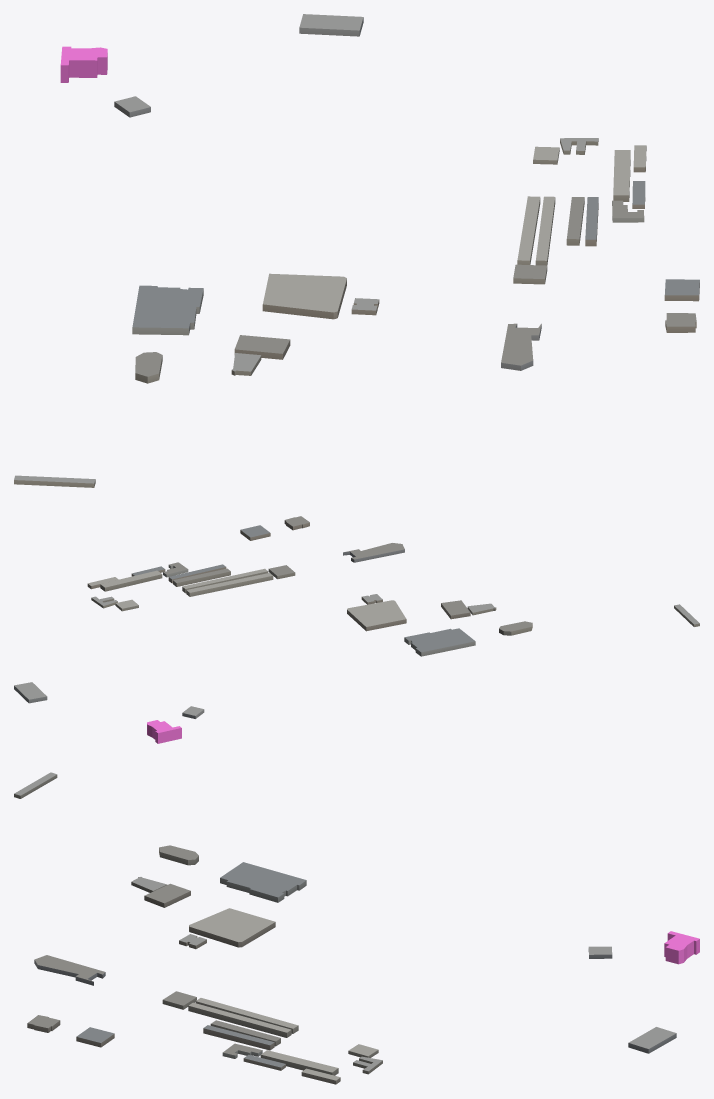
Rendered from bld_11_10.fbx.
3 renders of one model, top to bottom at view 1: azimuth 30°, elevation 25°; view 2: azimuth 150°, elevation 25°; view 3: azimuth 270°, elevation 25°, orthographic. The views are drawn at different scales.
Visible parts, largest first — view 1: bld_11_10_LOD0, bld_11_10_COL; view 2: bld_11_10_LOD0, bld_11_10_COL; view 3: bld_11_10_LOD0, bld_11_10_COL.
Part boxes in pixels (x1,y1,x2,y2): bld_11_10_LOD0: [14, 14, 699, 487]; bld_11_10_COL: [60, 46, 107, 82]; bld_11_10_LOD0: [14, 516, 699, 718]; bld_11_10_COL: [147, 720, 181, 743]; bld_11_10_LOD0: [14, 772, 676, 1084]; bld_11_10_COL: [664, 931, 699, 964].
Size of what is drawn, in the model's own units: 1647 by 33.81 by 1545.
